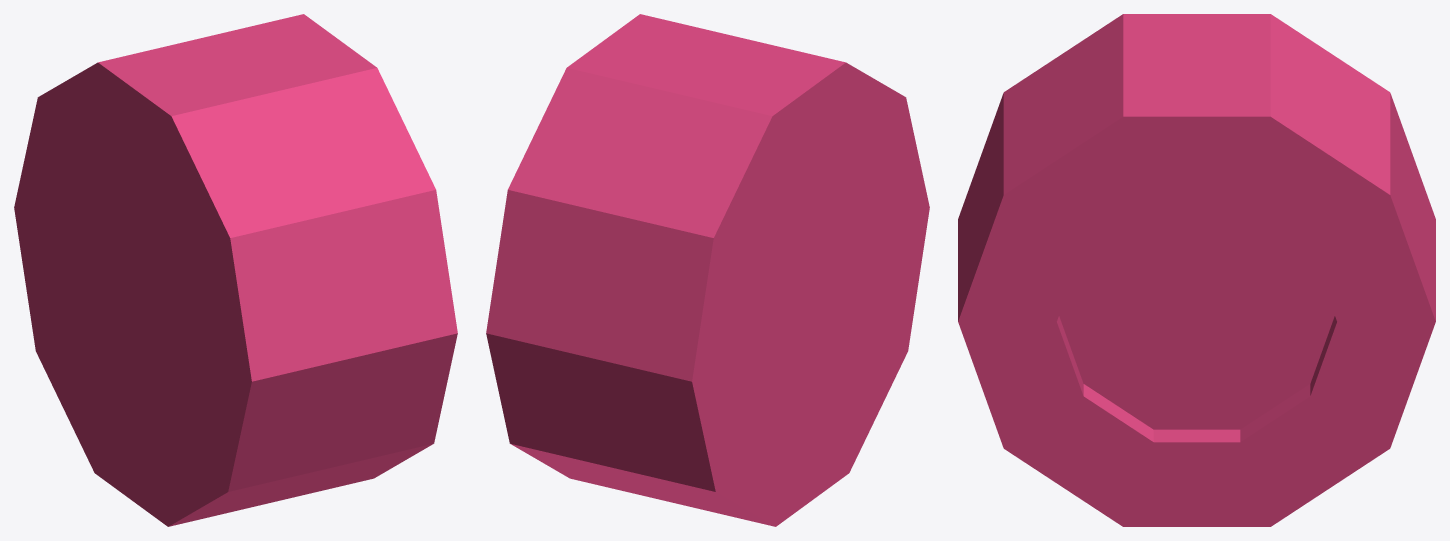
File: Wheel.fbx
3 views of the same model, side by side, from view 1: azimuth 30°, elevation 25°; view 2: azimuth 150°, elevation 25°; view 3: azimuth 270°, elevation 25° (orthographic).
Visible parts, largest first — view 1: Cube.001; view 2: Cube.001; view 3: Cube.001.
Part boxes in pixels (<box>): Cube.001: <box>14,14,457,526</box>; Cube.001: <box>486,14,929,526</box>; Cube.001: <box>958,14,1435,526</box>.
Bounding box in the file's own units: 15.43 × 29.01 × 30.37.
